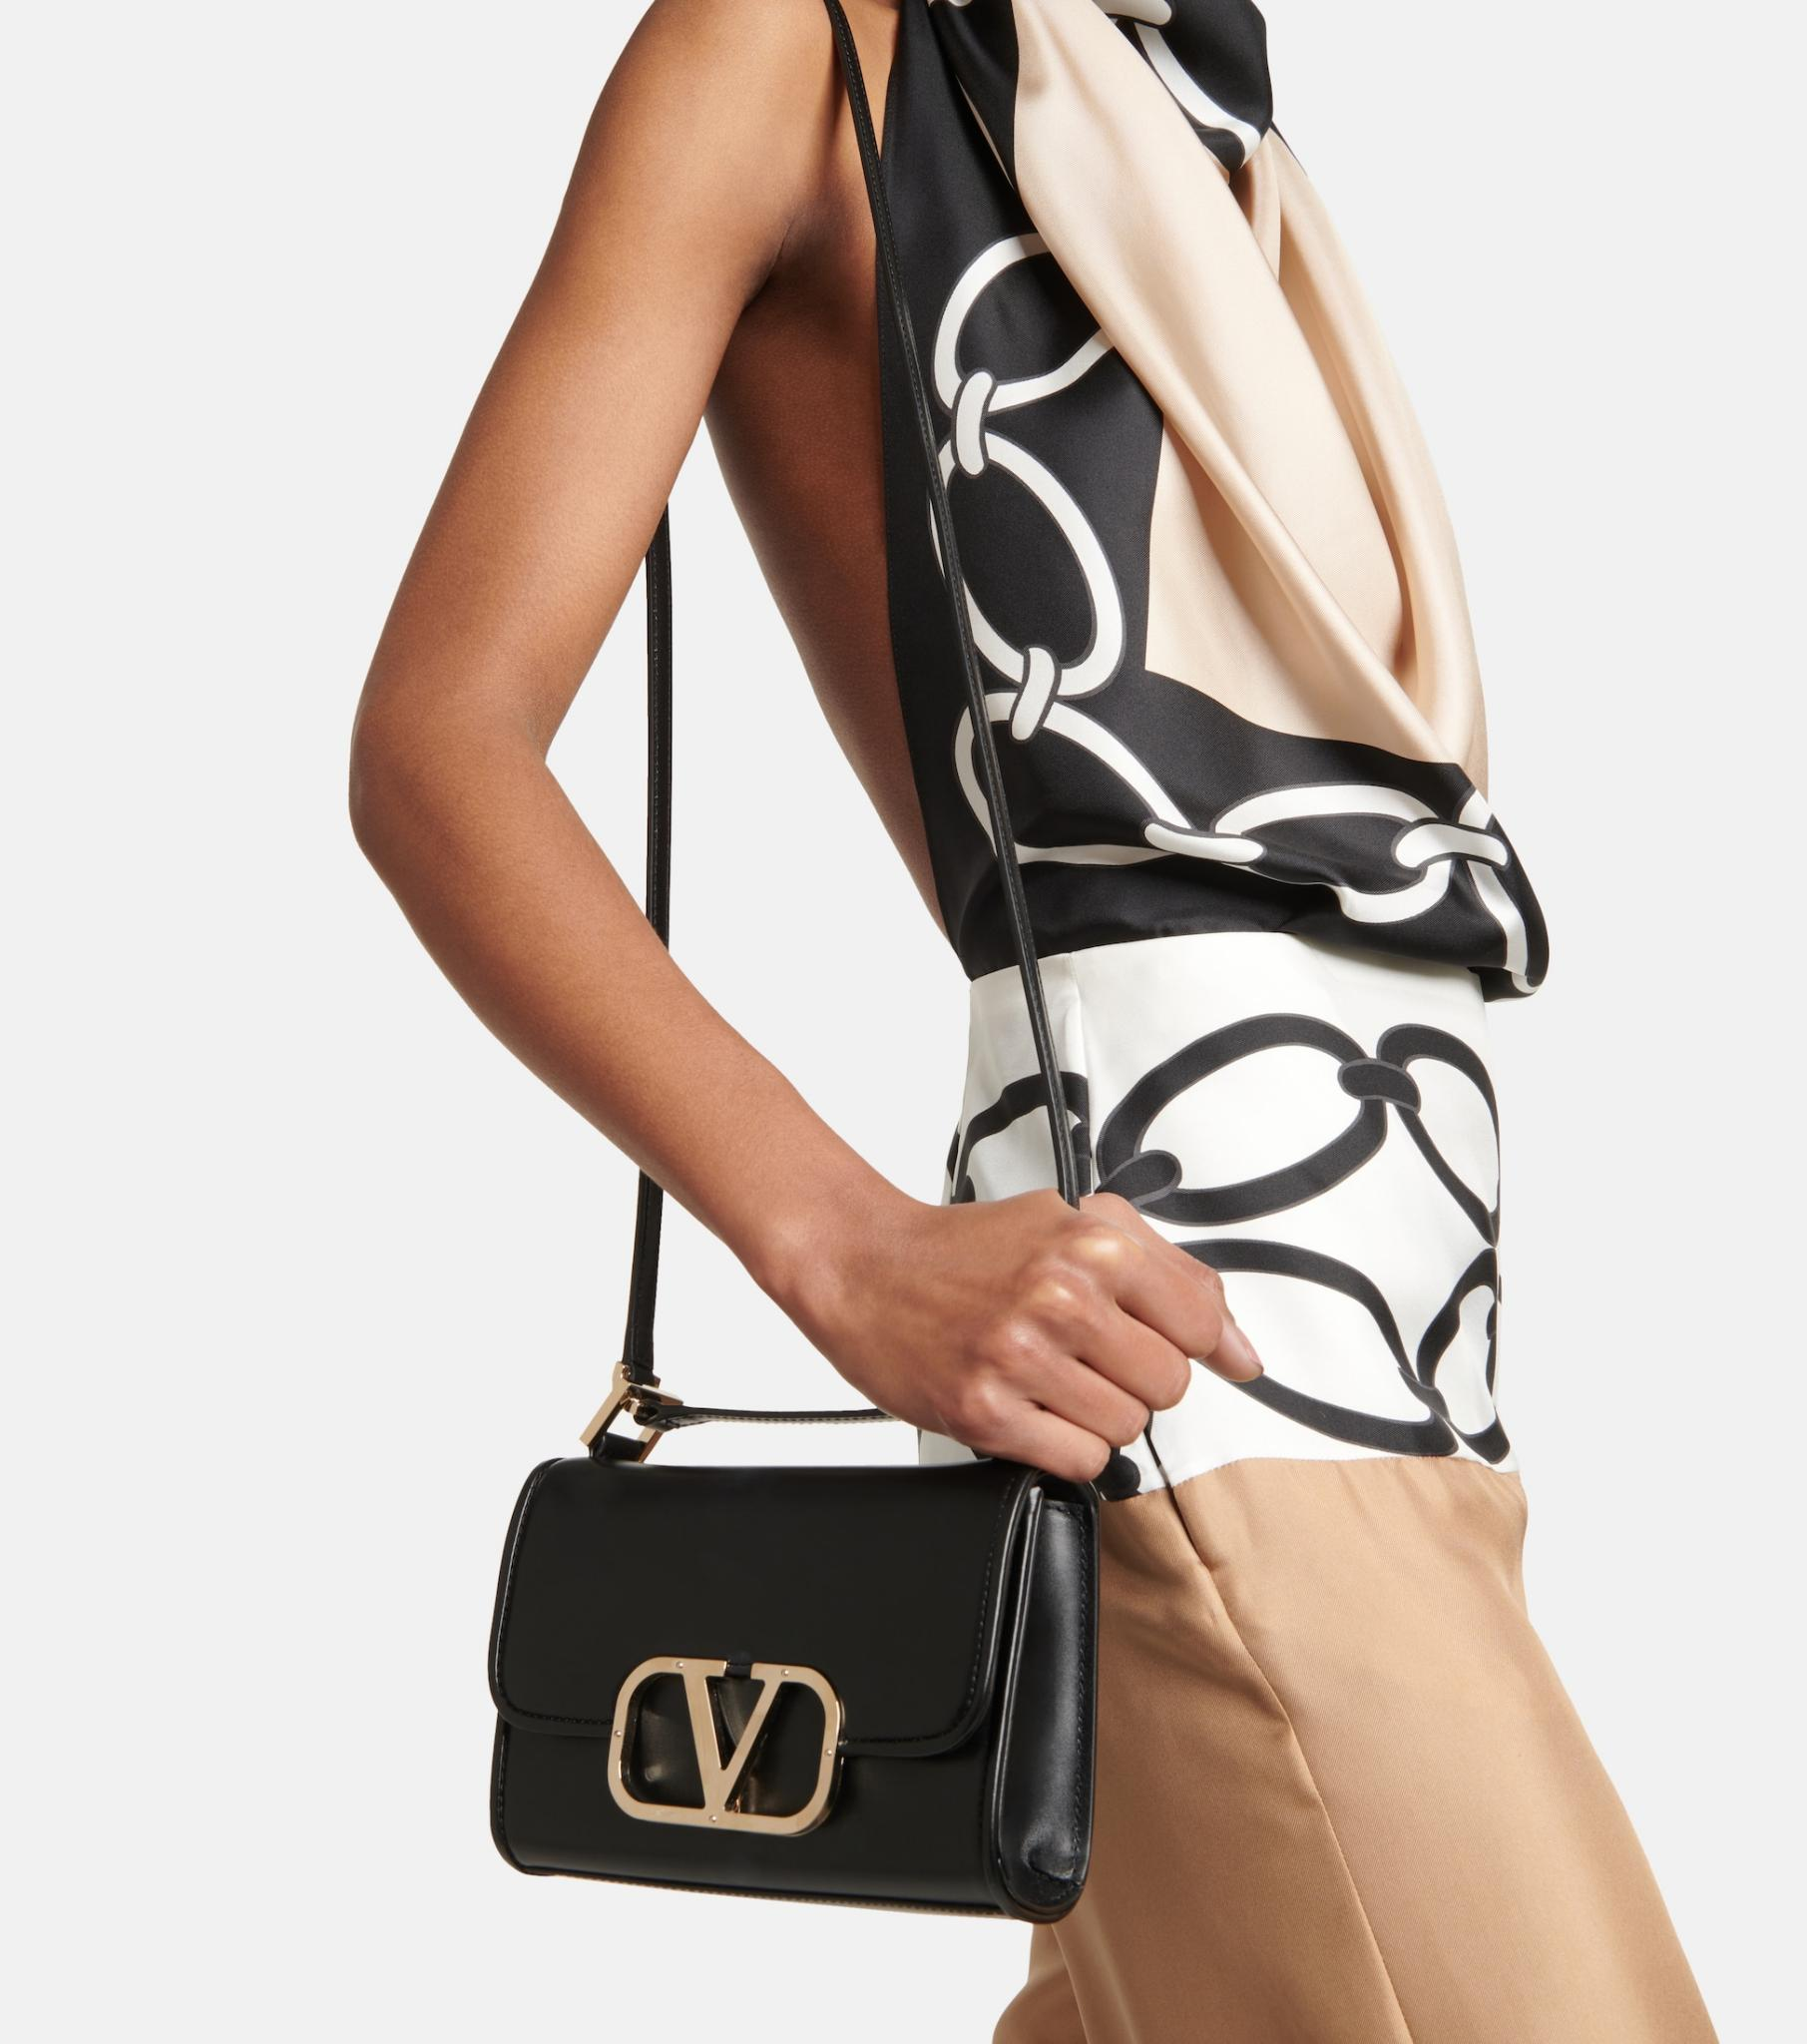VALENTINO: (607, 1657, 846, 1836)
